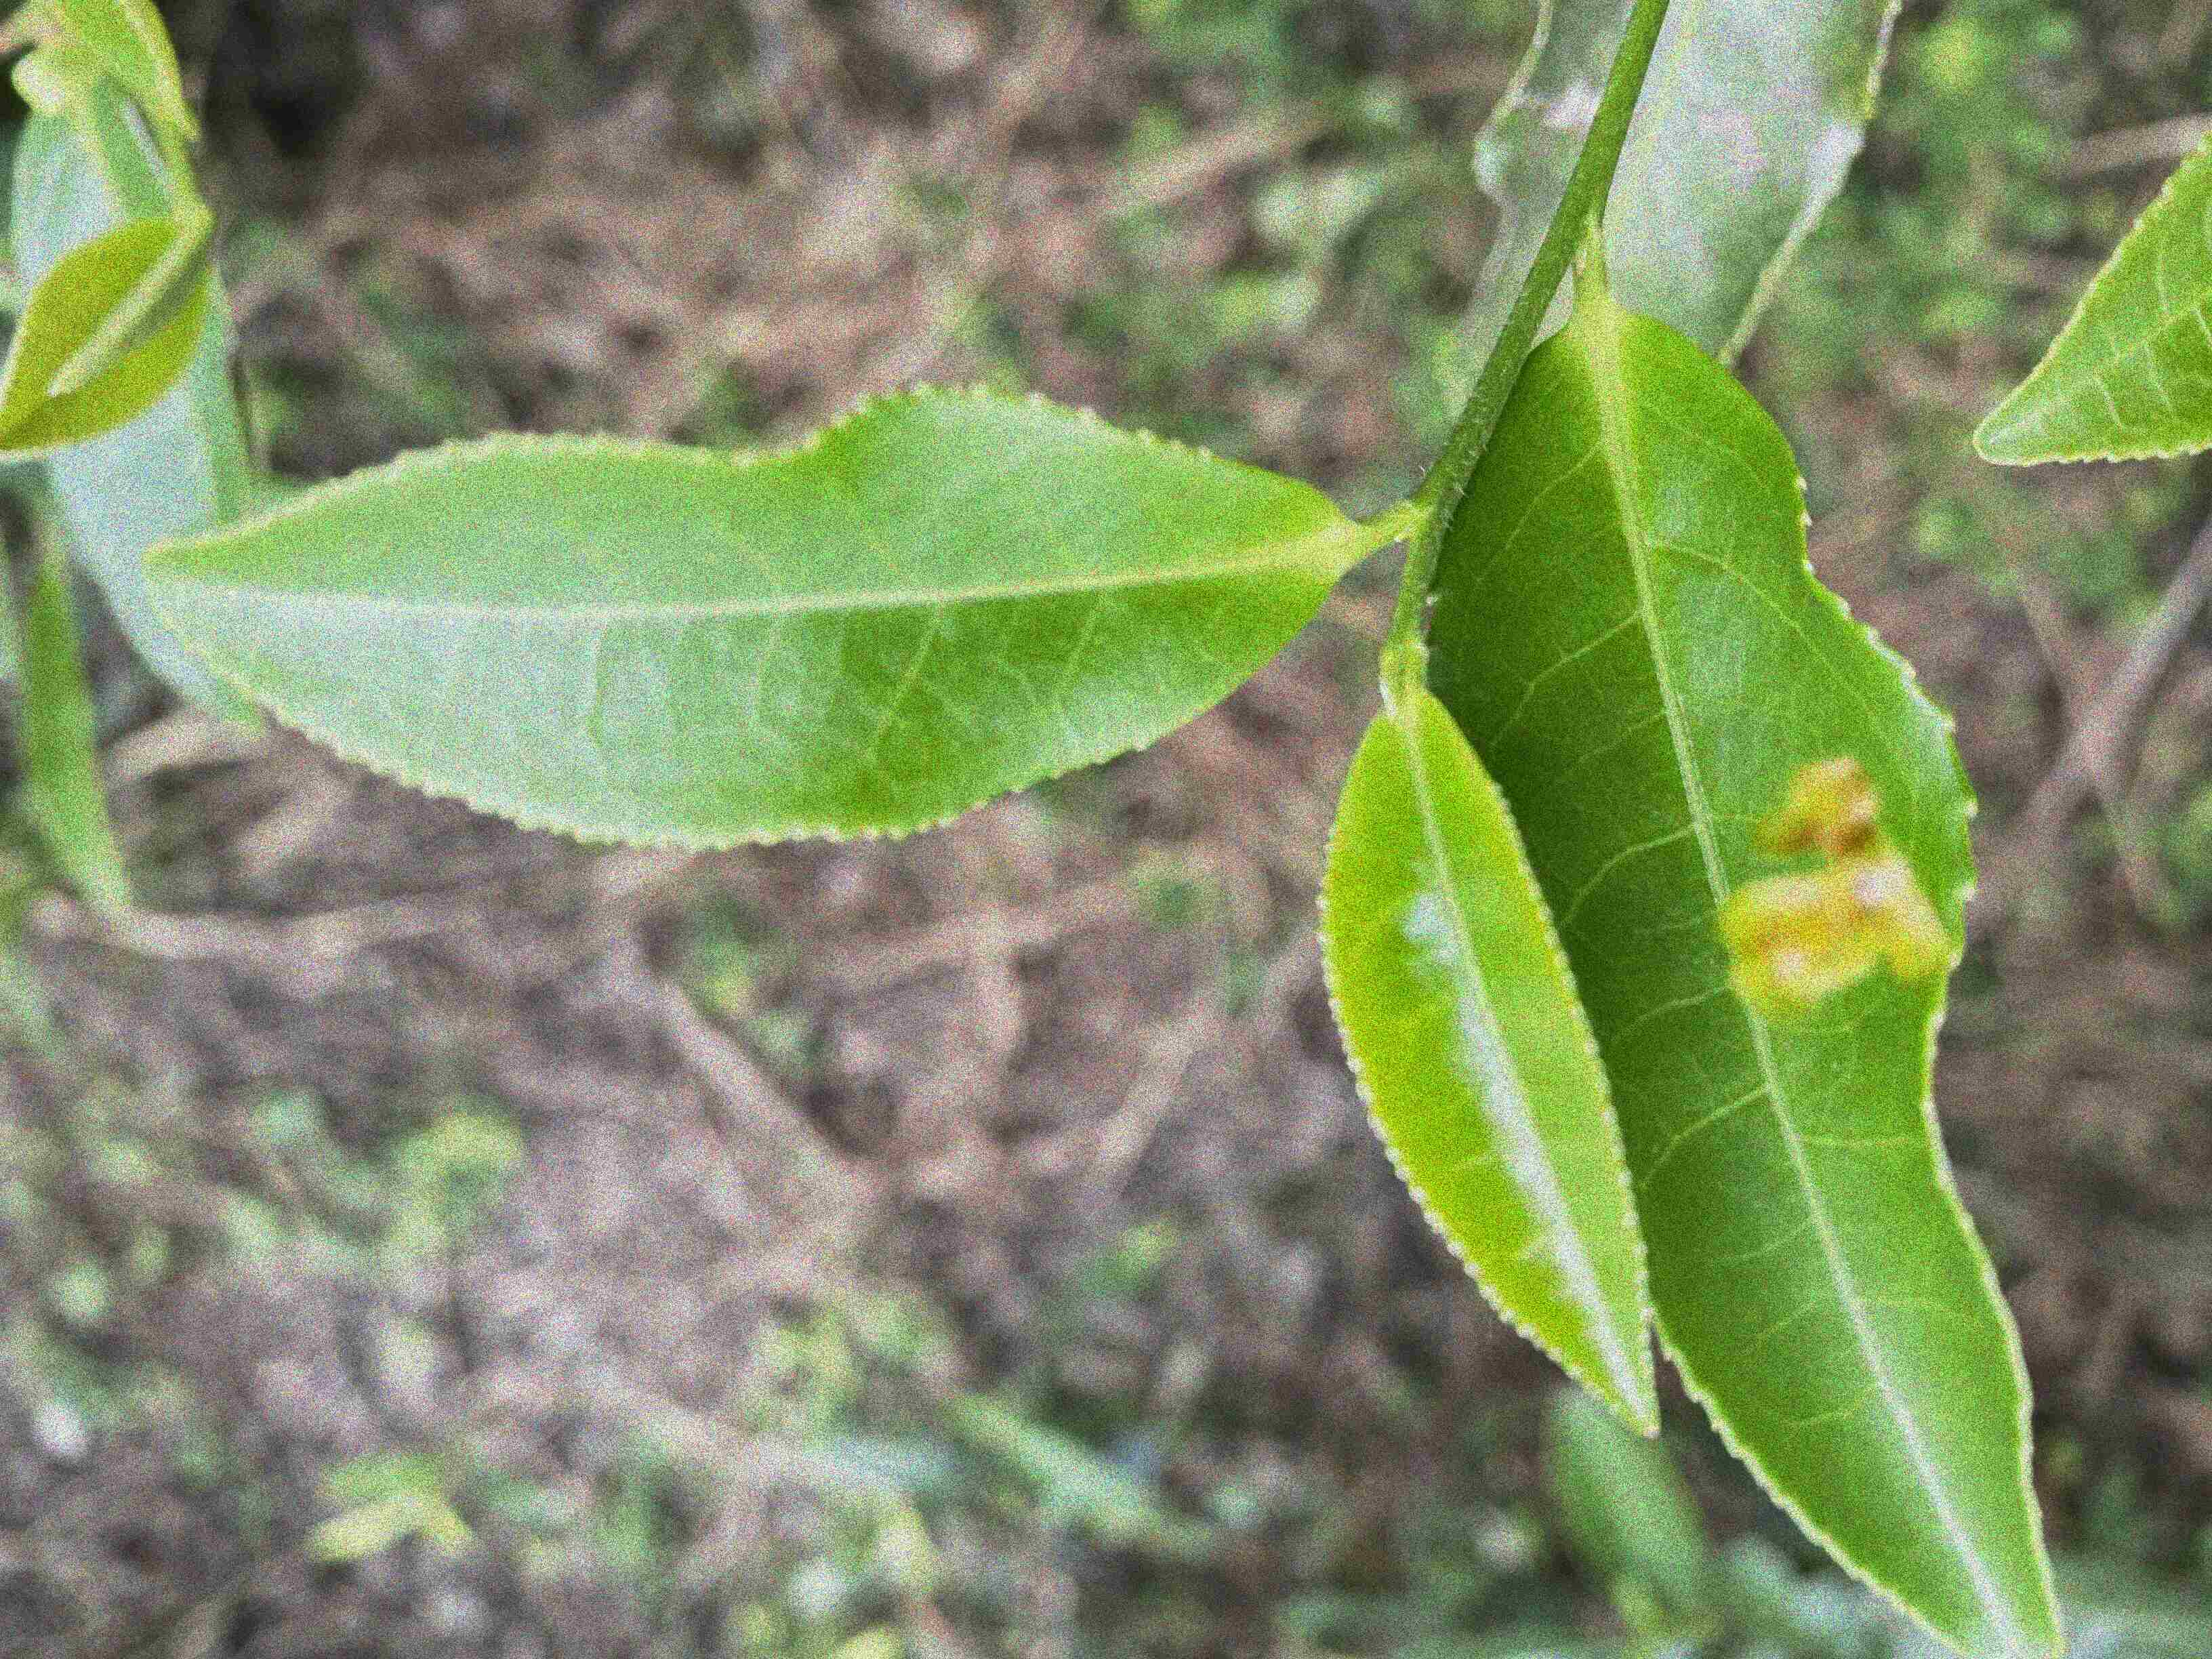chabing_low: (1426, 301, 2069, 1656)
healthy: (131, 378, 1348, 854), (1317, 690, 1656, 1439), (1973, 145, 2210, 469)
